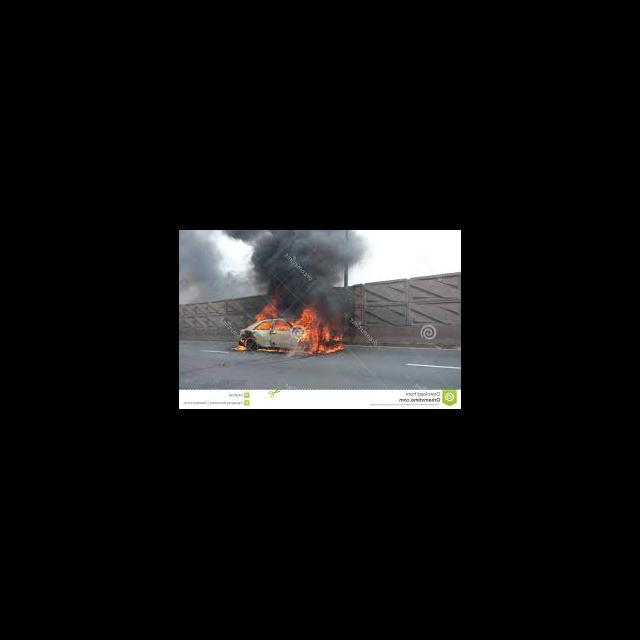Fire: (292, 305, 346, 358), (254, 290, 282, 320), (255, 346, 284, 354), (276, 322, 290, 332), (254, 324, 271, 331), (236, 343, 248, 352)
